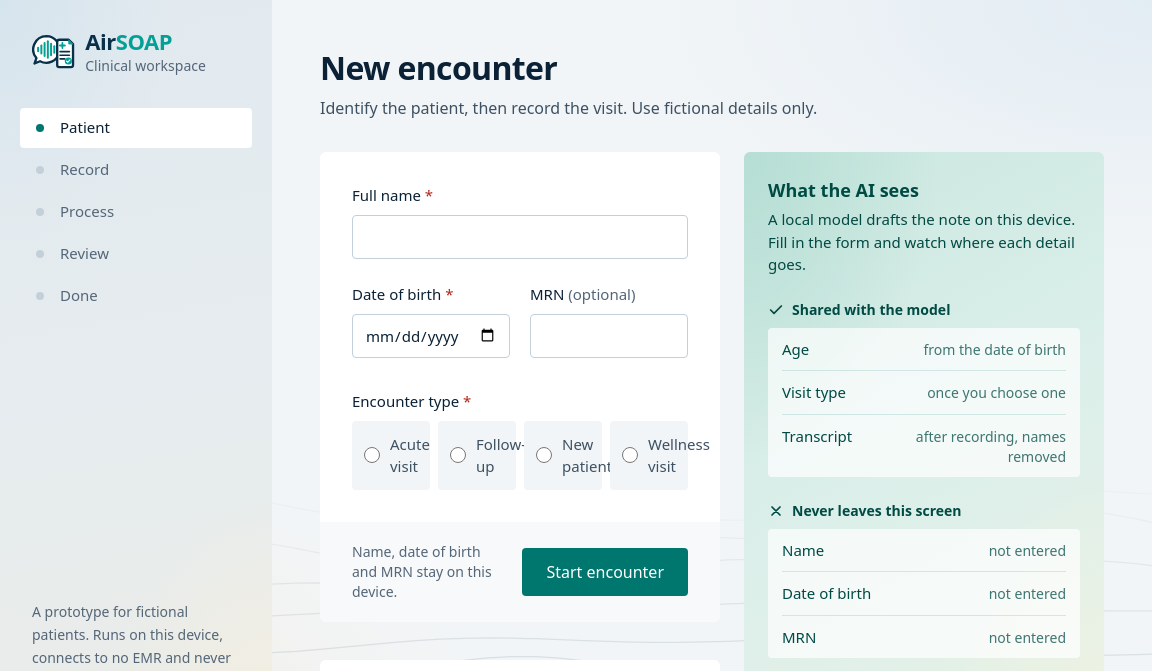
Scenario: AirSOAP workflow › requires recording consent before starting
Type "Jordan Testpatient" into the field labelled "Full name *".
click(520, 237); type("Jordan Testpatient")  # box [352, 214, 688, 259]
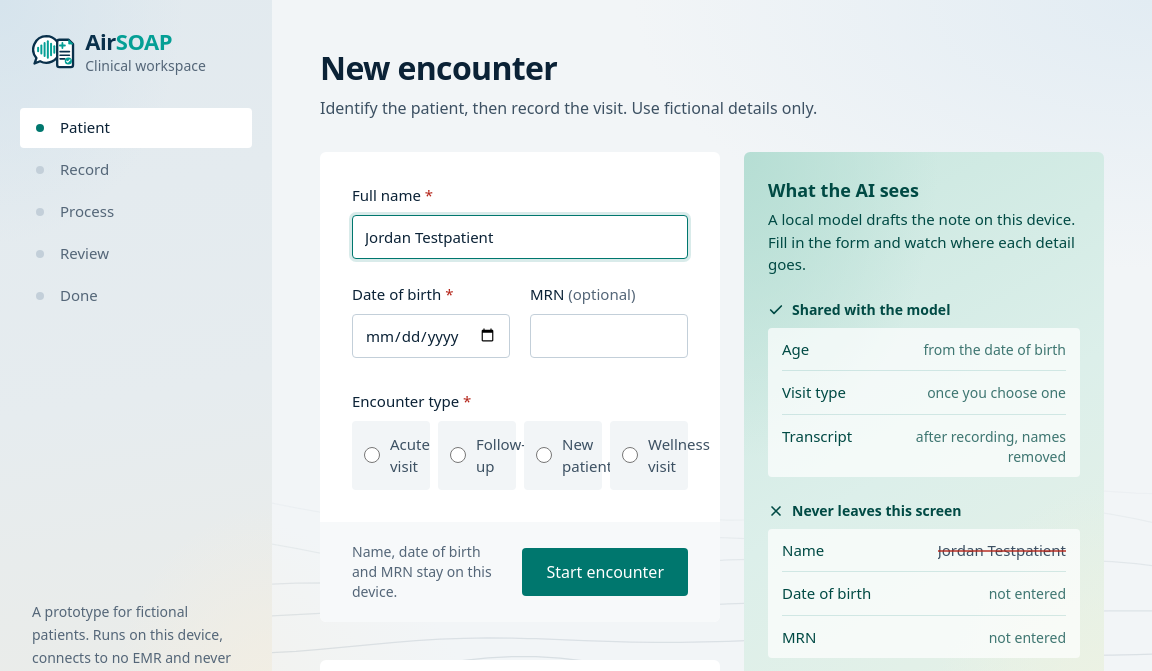
Type "1991-04-12" into the date field labelled "Date of birth *".
click(431, 336); type("1991-04-12")  # box [352, 314, 510, 358]
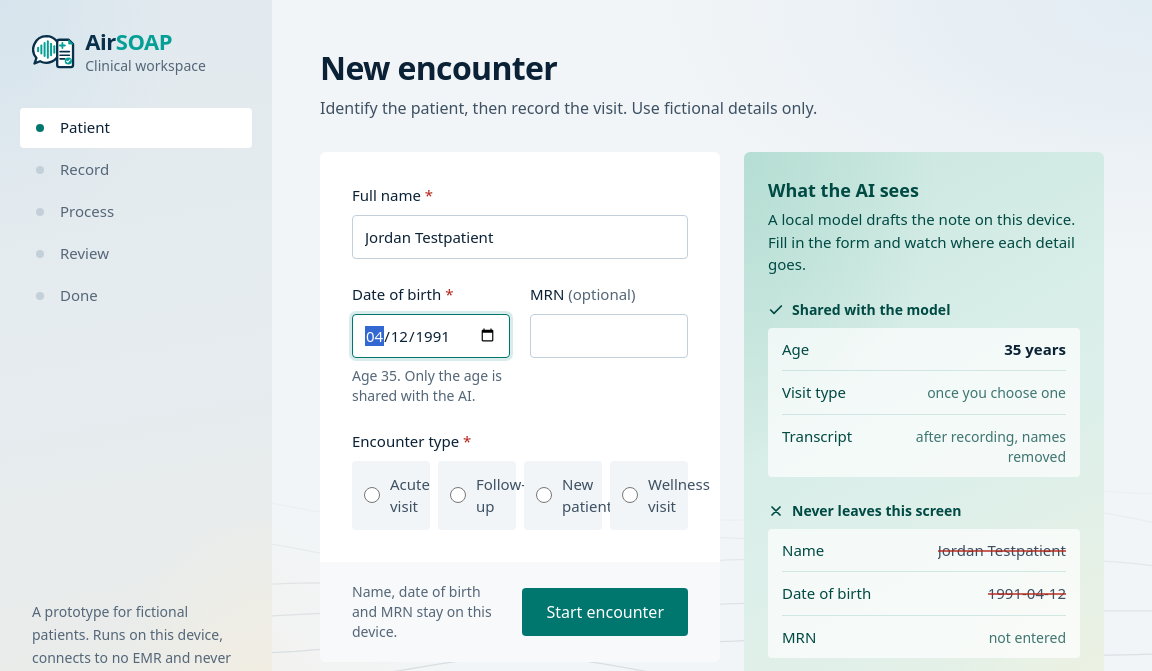
Type "DEMO-000123" into the field labelled "MRN (optional)".
click(609, 336); type("DEMO-000123")  # box [530, 314, 688, 358]
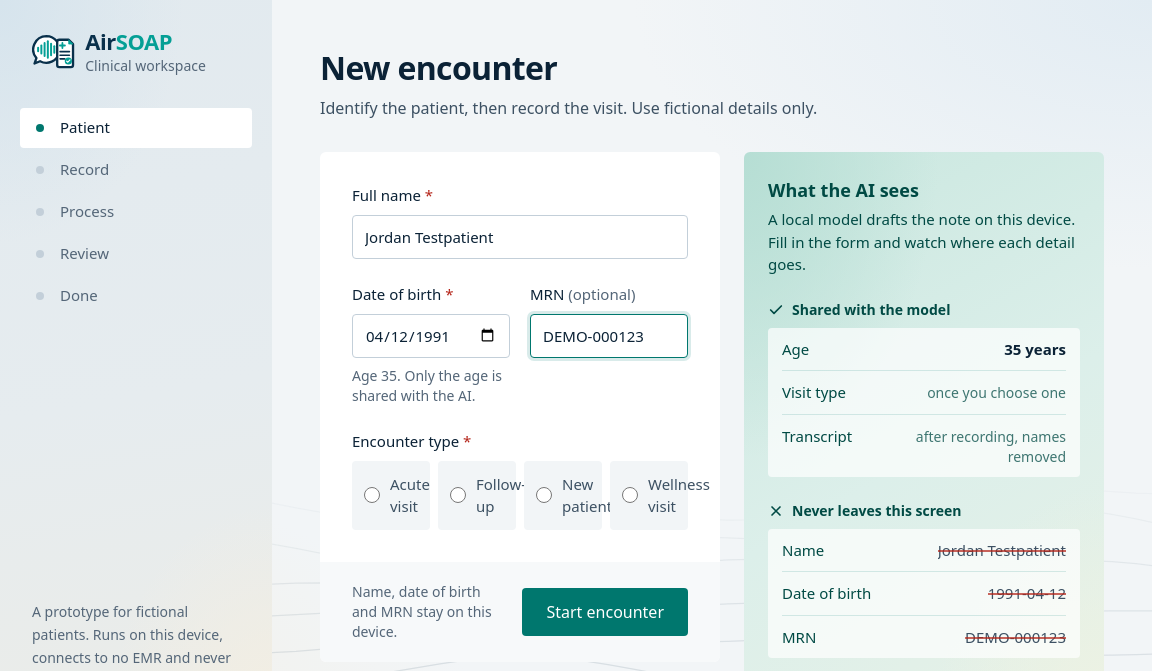
Click the radio button labelled "Acute visit".
click(372, 495)  # box [364, 487, 380, 503]
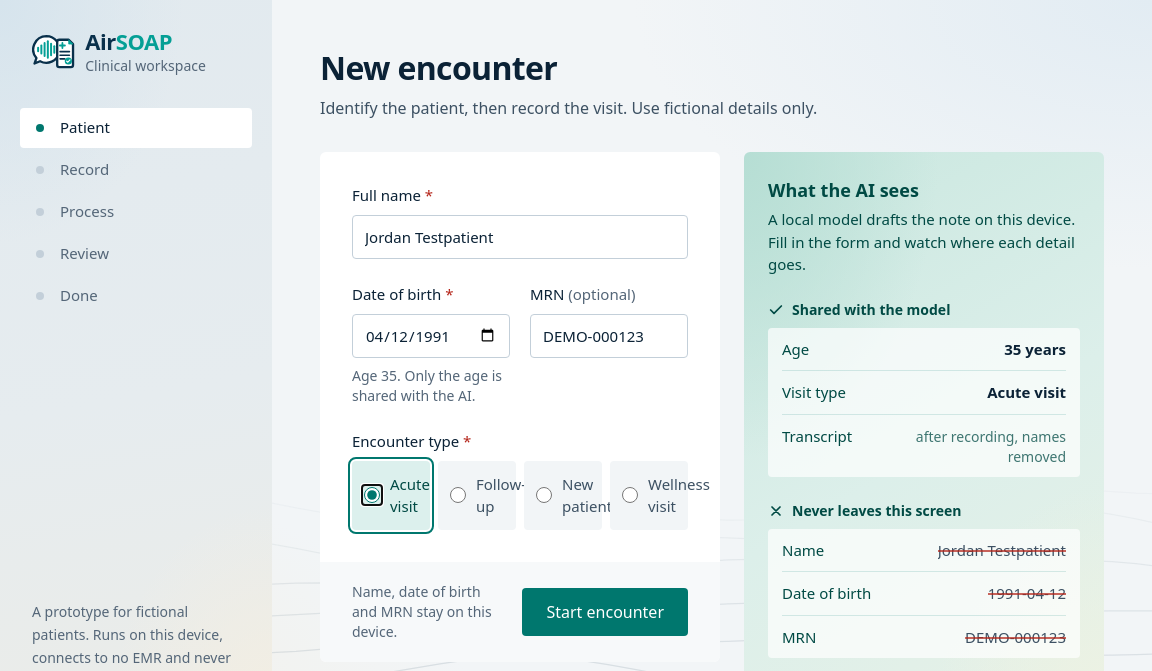
Click the button "Start encounter".
click(605, 612)  # box [522, 588, 688, 636]
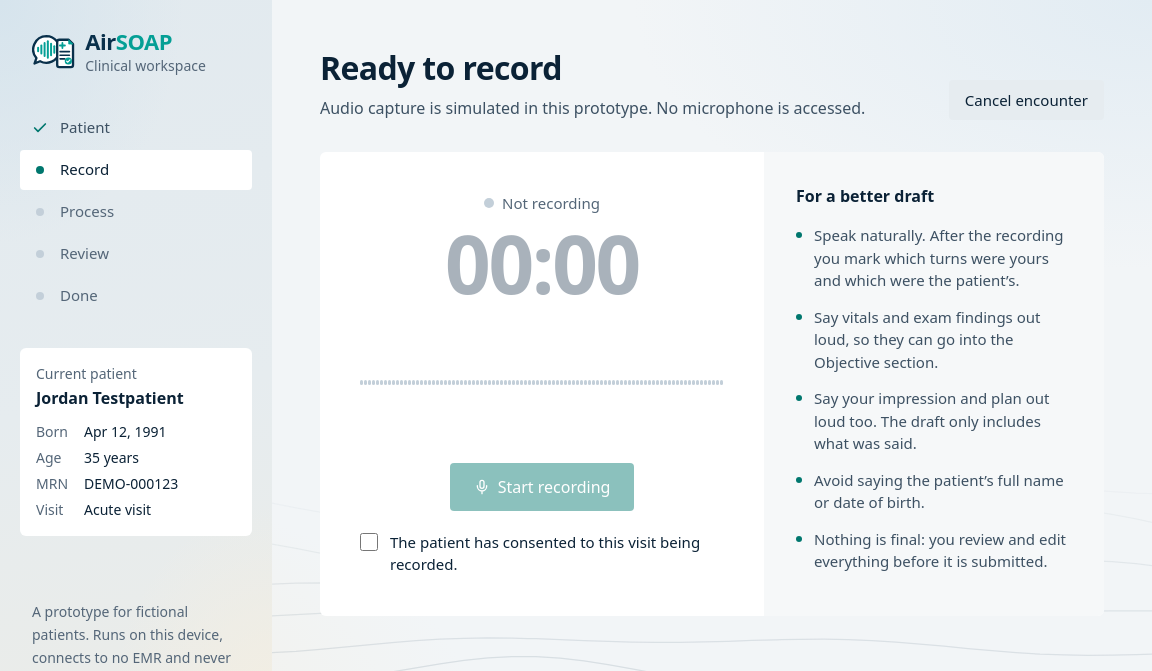
Expected: the heading "Ready to record" is shown, [320, 46, 562, 89]
Expected: the button "Start recording" is disabled, [450, 462, 634, 510]
